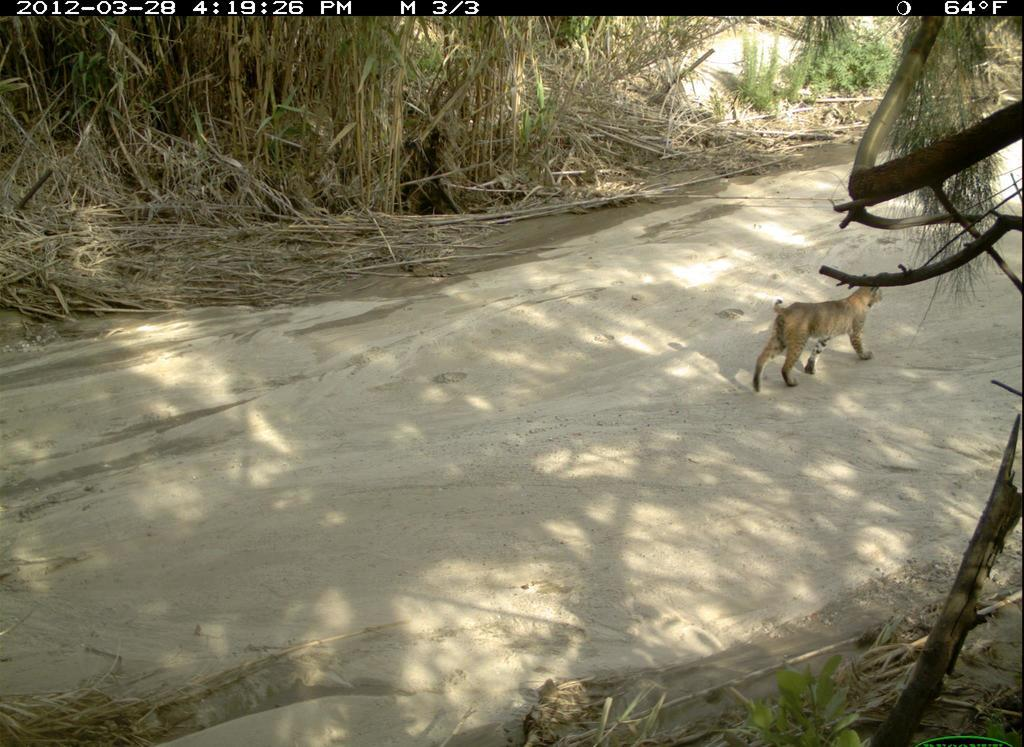bobcat: (749, 280, 907, 395)
